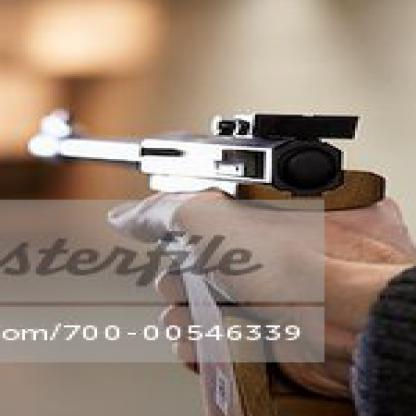gun: (17, 92, 391, 392)
